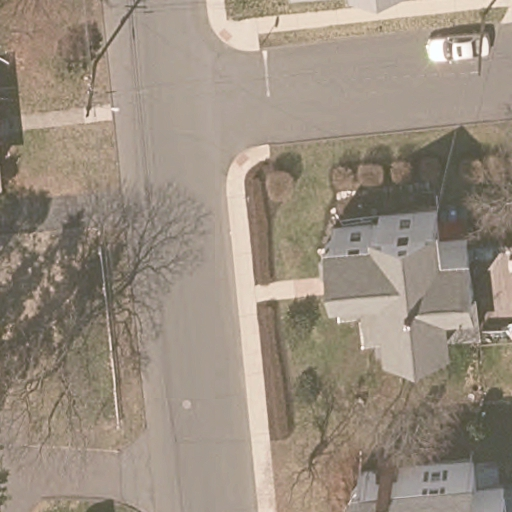DT: (82, 59, 120, 119), (463, 13, 492, 76)
